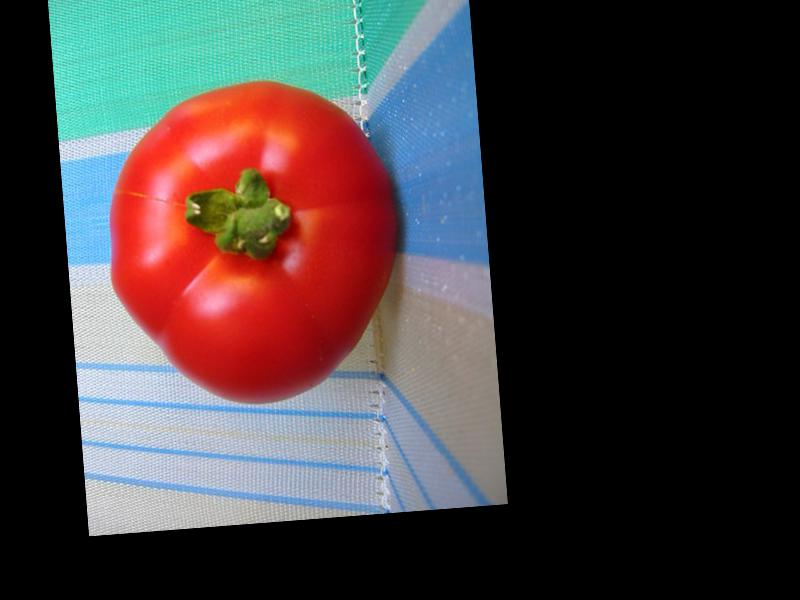Tomato: (96, 71, 411, 412)
